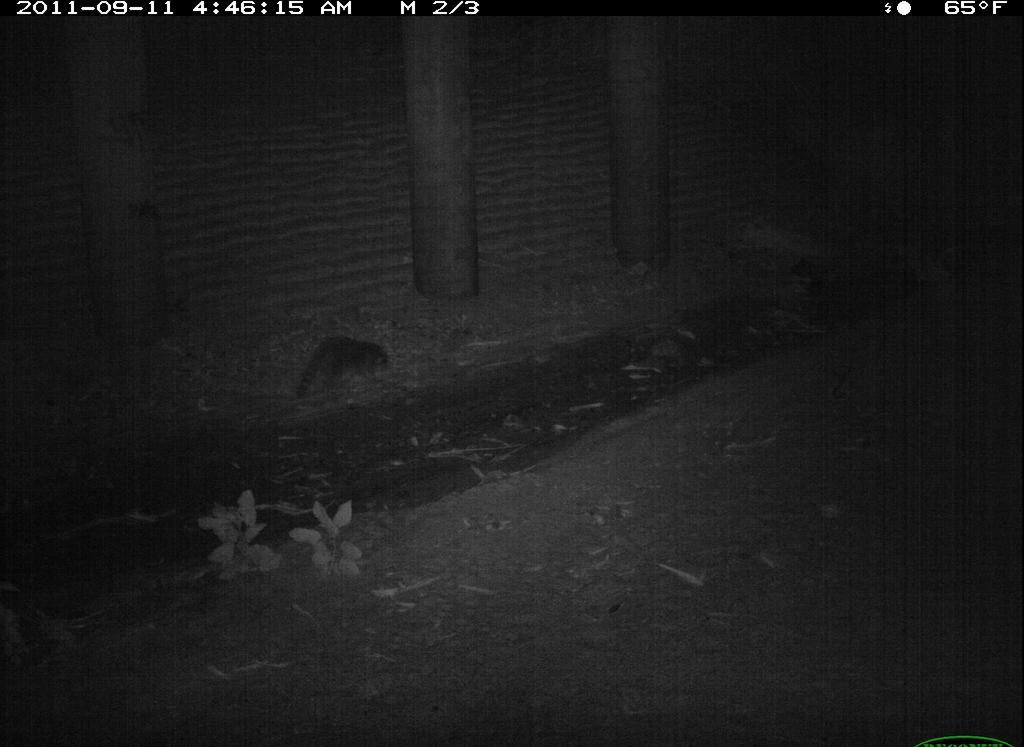raccoon: (577, 657, 793, 747)
